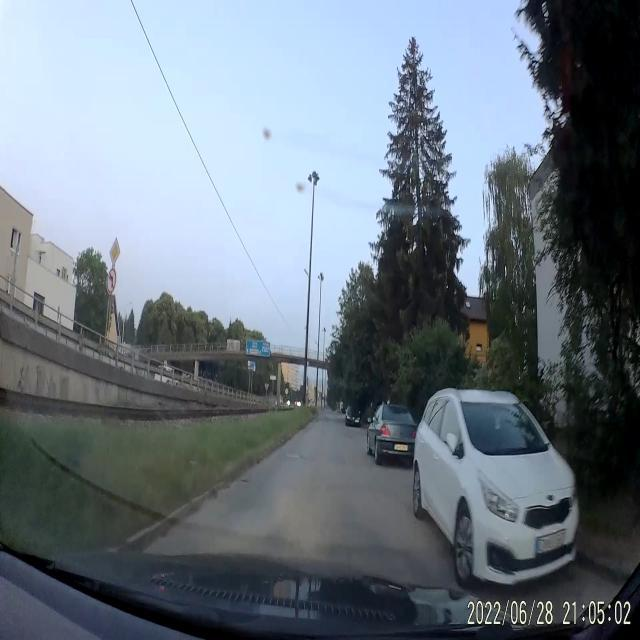Pothole: (284, 449, 304, 462)
